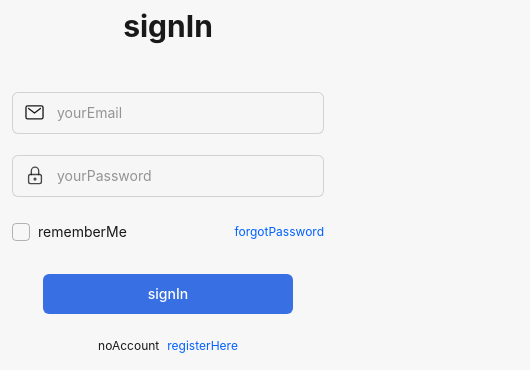
LoginForm › shows error for invalid email format
Step 1. Type "notanemail" into the field with placeholder "yourEmail" → (168, 113), box left=12, top=92, right=324, bottom=134
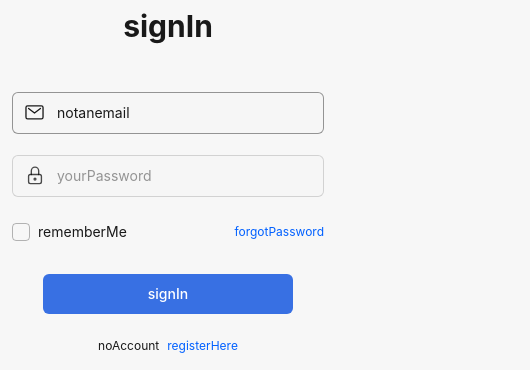
Step 2. Click the button "signIn" → (168, 294), box left=43, top=274, right=293, bottom=314
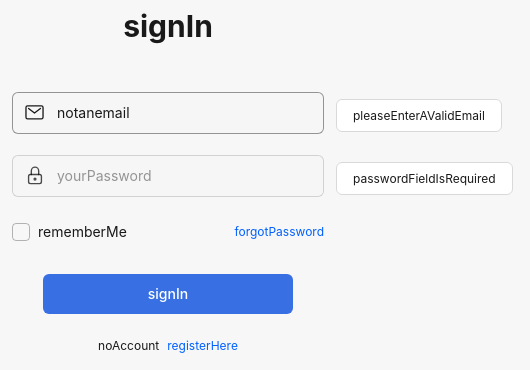
Result: the text "pleaseEnterAValidEmail" is shown at left=336, top=99, right=502, bottom=132
